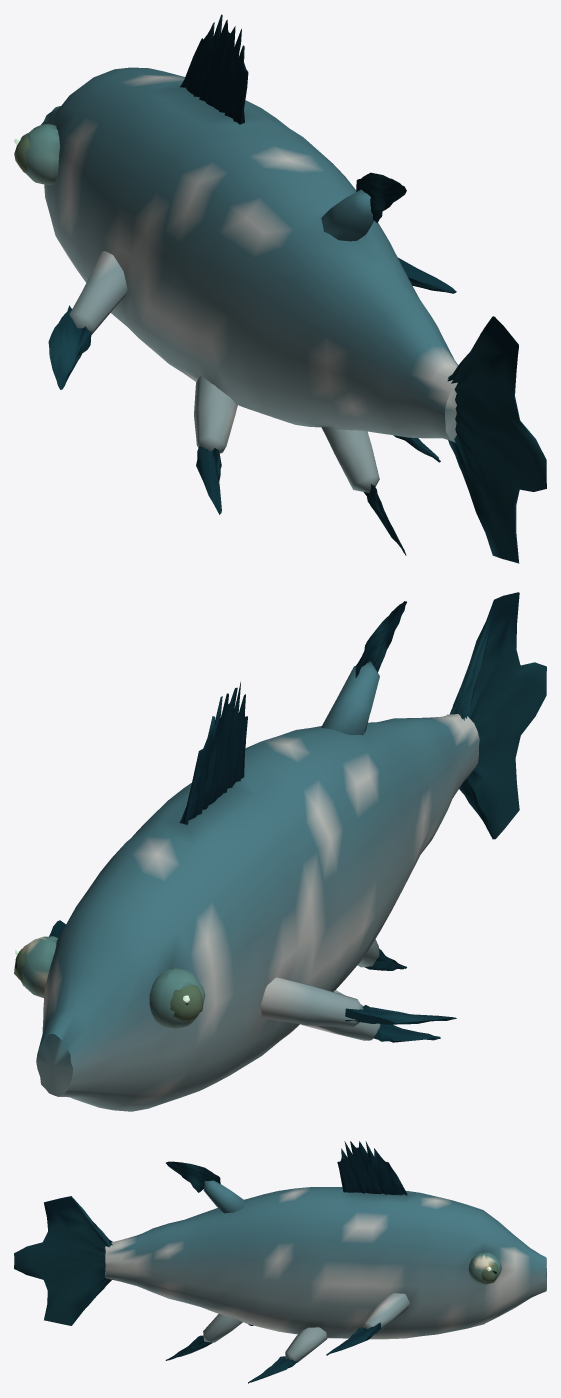
The model's file is coelacanth.glb.
The picture shows the model from 3 angles, top to bottom: view 1: azimuth 30°, elevation 25°; view 2: azimuth 150°, elevation 25°; view 3: azimuth 270°, elevation 25°; orthographic projection. The views are drawn at different scales.
Visible parts, largest first — view 1: coelacanth; view 2: coelacanth; view 3: coelacanth.
Part boxes in pixels (x1,y1,x2,y2): coelacanth: (14, 14, 546, 563); coelacanth: (14, 592, 546, 1111); coelacanth: (14, 1141, 546, 1383).
Bounding box in the file's own units: 0.6749 × 0.6626 × 1.45.
